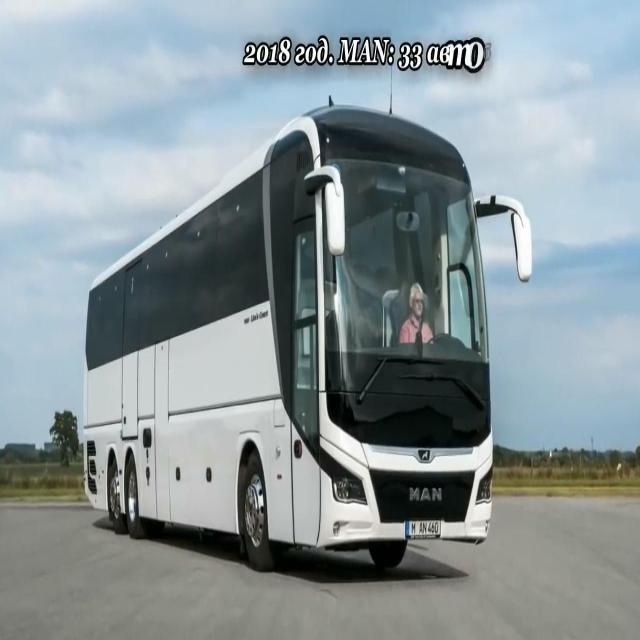Bus: (84, 94, 534, 580)
